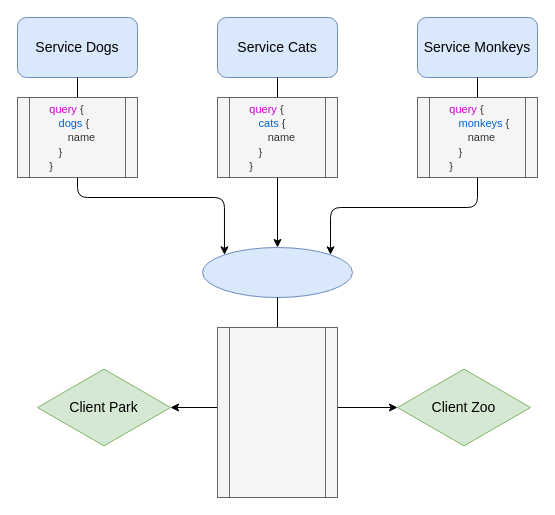
Image size: 555x515. Some labels were removed from this diagram. Each missing label, with the centre of its shape:
"Hub Service" belongs at (277,272).
"query { dogs { name } cats { name } monkeys { name } }" belongs at (277,412).
